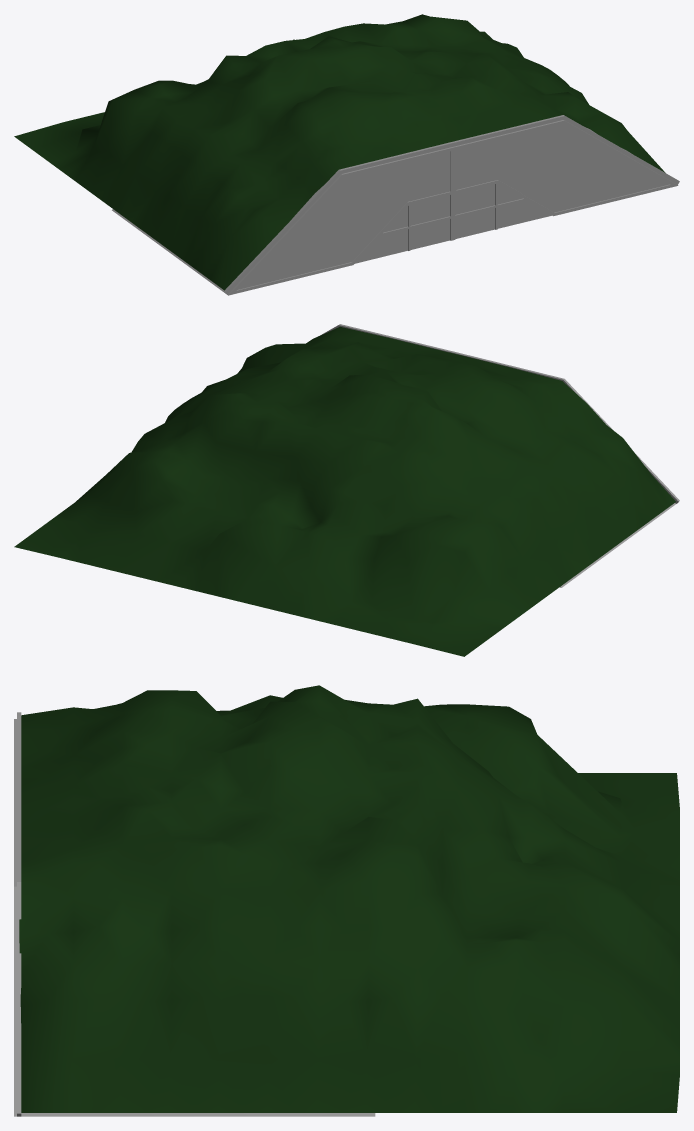
File: hangar bunker v02.FBX
3 renders of one model, top to bottom at view 1: azimuth 30°, elevation 25°; view 2: azimuth 150°, elevation 25°; view 3: azimuth 270°, elevation 25°, orthographic. The views are drawn at different scales.
Visible parts, largest first — view 1: Plane014, Line022; view 2: Plane014, Line022; view 3: Plane014, Line022.
Boxes of the visible parts, box(x1,y1,x2,y2) form: Plane014: box(14, 14, 665, 290); Line022: box(112, 115, 679, 295); Plane014: box(14, 326, 675, 656); Line022: box(320, 324, 679, 587); Plane014: box(19, 685, 679, 1112); Line022: box(14, 712, 375, 1116).
Bounding box in the file's own units: 892 × 250 × 731.
